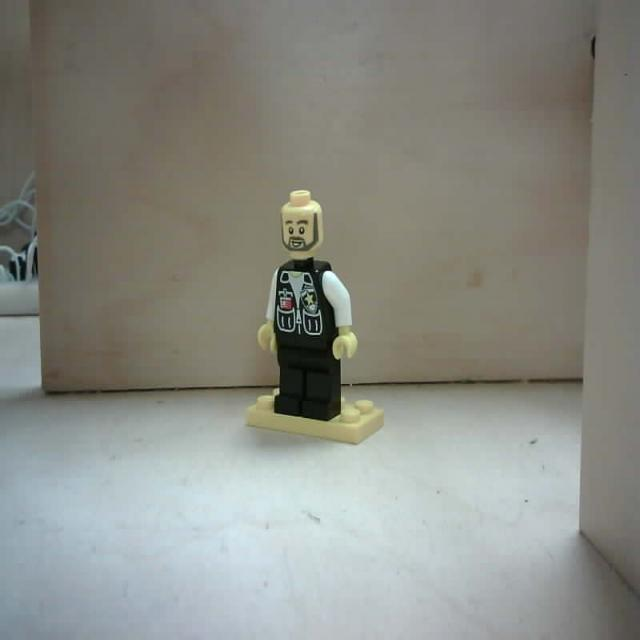Lego-People: (238, 178, 388, 452)
